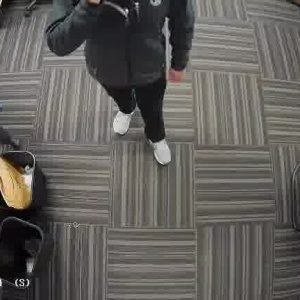person: (71, 0, 180, 165)
